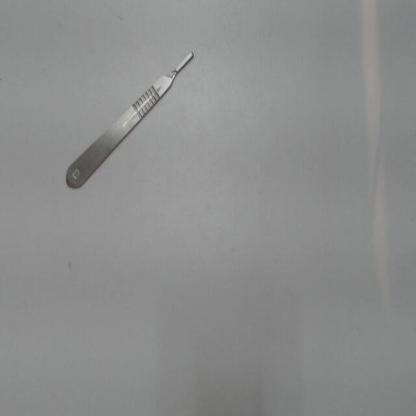No.3 BP Handle: (59, 38, 206, 205)
